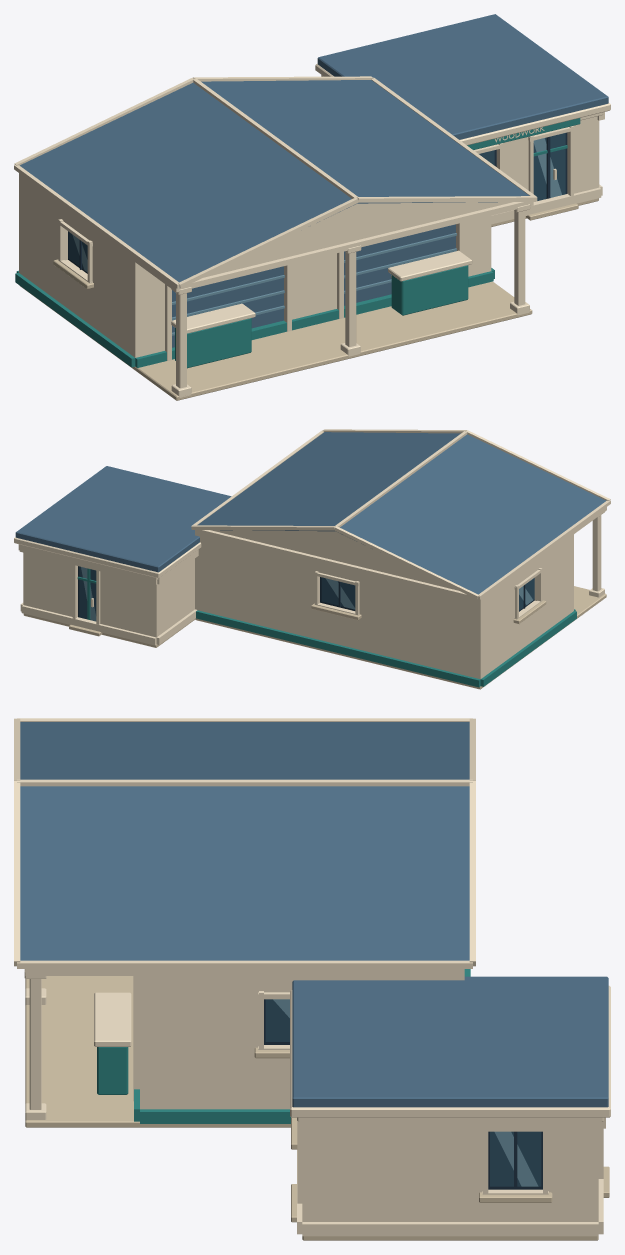
Rendered from carpenters_workshop.glb.
3 renders of one model, top to bottom at view 1: azimuth 30°, elevation 25°; view 2: azimuth 150°, elevation 25°; view 3: azimuth 270°, elevation 25°, orthographic. The views are drawn at different scales.
Visible parts, largest first — view 1: CarpentersWorkshop_StaticMesh; view 2: CarpentersWorkshop_StaticMesh; view 3: CarpentersWorkshop_StaticMesh.
Part boxes in pixels (x1,y1,x2,y2): CarpentersWorkshop_StaticMesh: (14, 14, 610, 400); CarpentersWorkshop_StaticMesh: (14, 429, 610, 689); CarpentersWorkshop_StaticMesh: (14, 718, 610, 1240).
Bounding box in the file's own units: 18.1 × 5.22 × 12.5.
